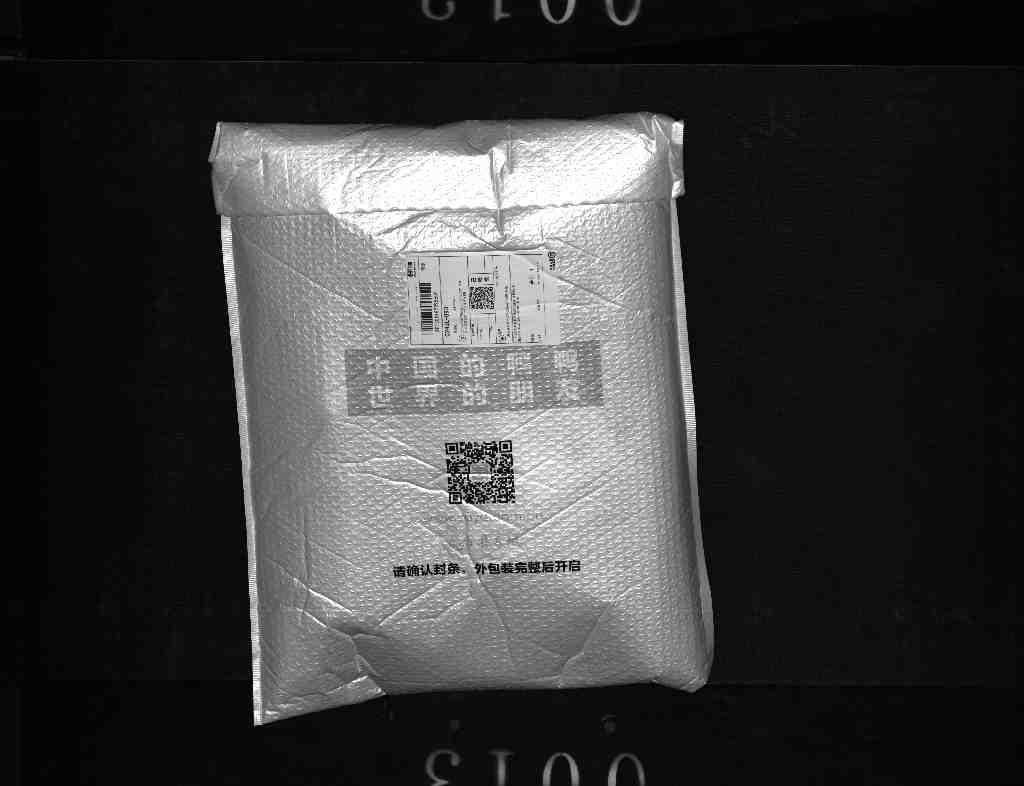box: (195, 105, 724, 748)
